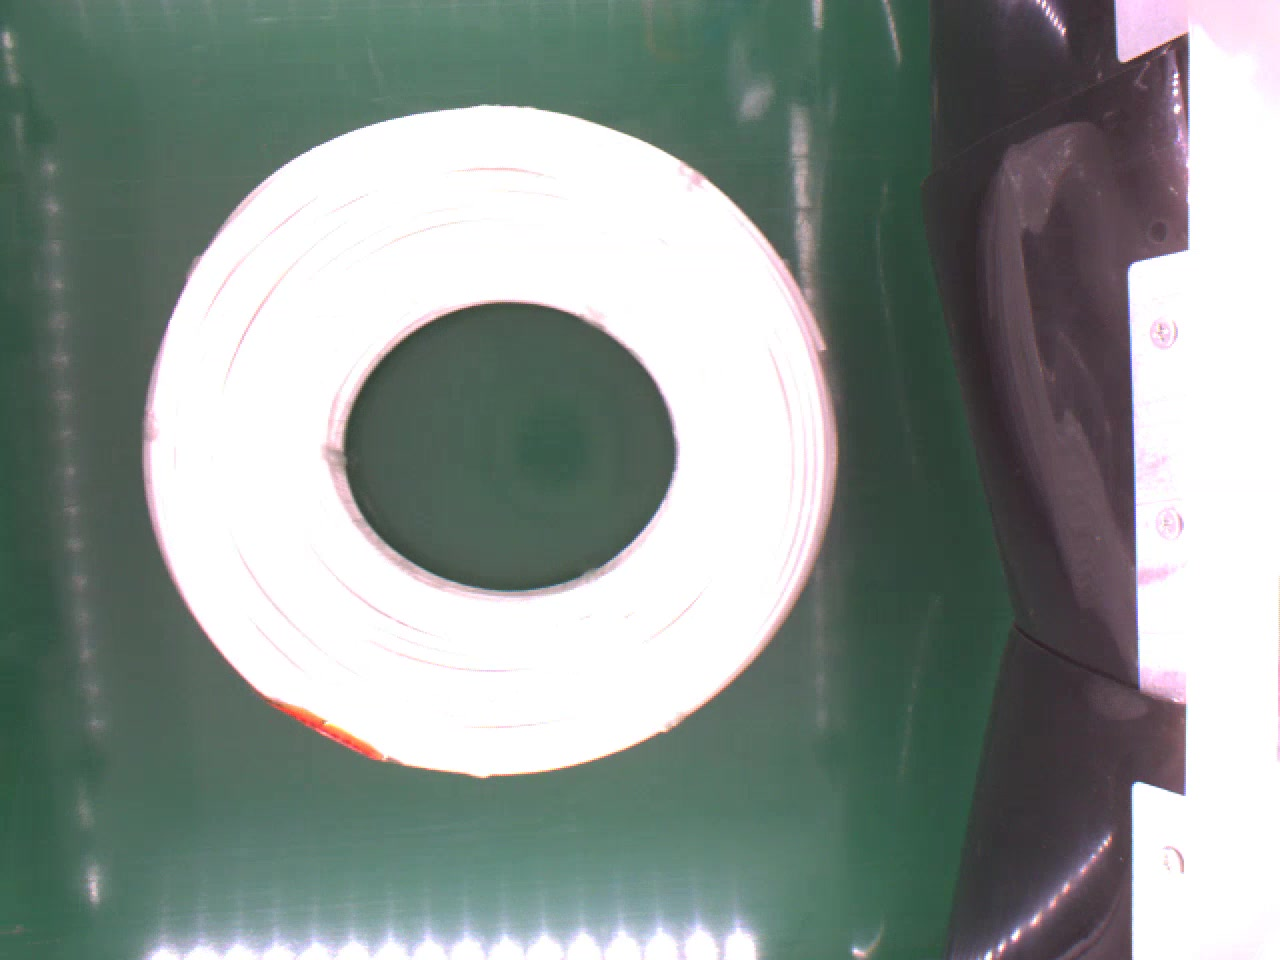white: (139, 89, 846, 767)
